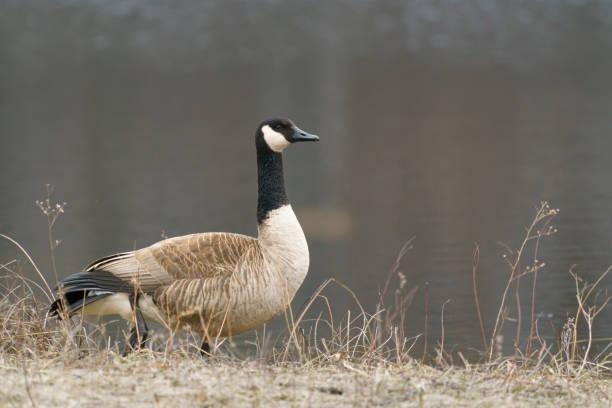Canadian-Goose: (48, 115, 318, 357)
